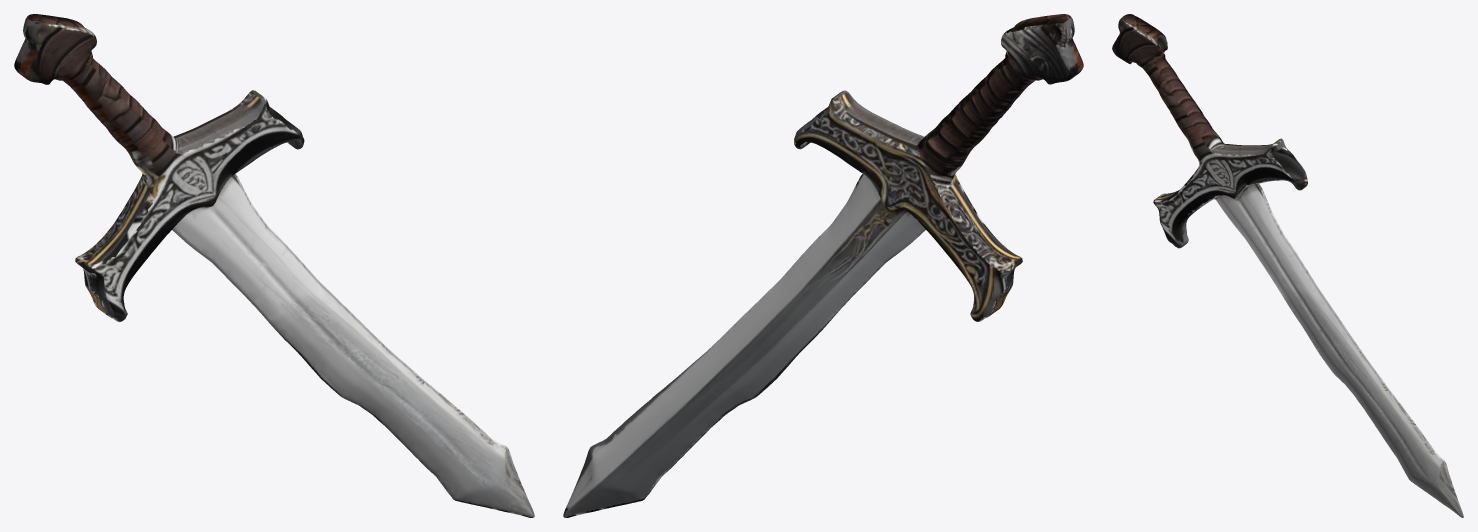
Rendered from medieval_sword.glb.
3 views of the same model, side by side, from view 1: azimuth 30°, elevation 25°; view 2: azimuth 150°, elevation 25°; view 3: azimuth 330°, elevation 25° (orthographic). The views are drawn at different scales.
Visible parts, largest first — view 1: world_0; view 2: world_0; view 3: world_0.
Part boxes in pixels (x1,y1,x2,y2): world_0: (14, 14, 534, 517); world_0: (563, 14, 1083, 517); world_0: (1112, 14, 1463, 517).
Size of the model in its own units: 1.46 by 1.68 by 0.1028.
Materials: 1 (1 with a texture image).
